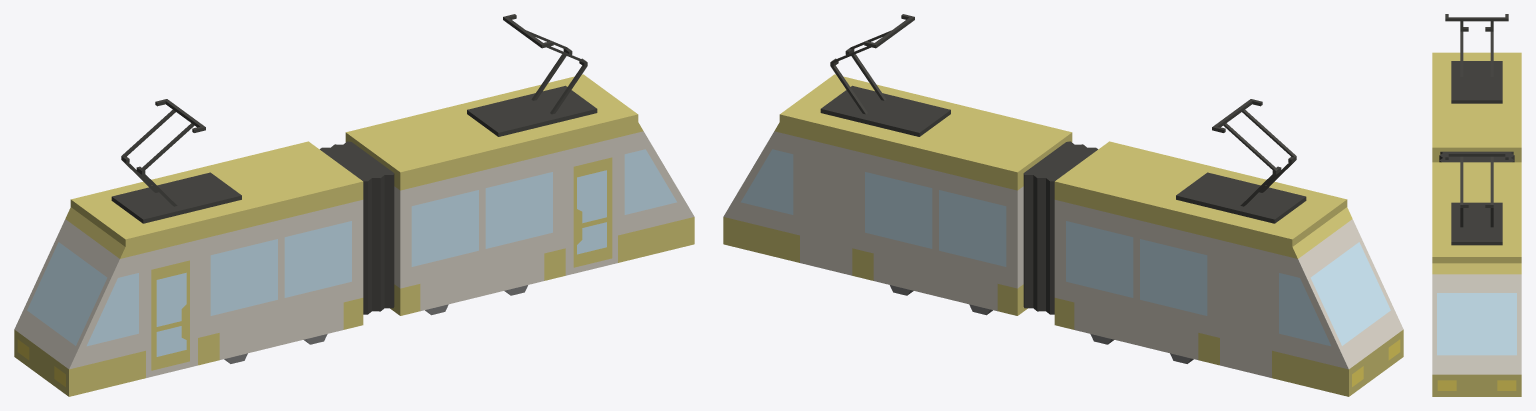
Rendered from Tram_4.fbx.
3 views of the same model, side by side, from view 1: azimuth 30°, elevation 25°; view 2: azimuth 150°, elevation 25°; view 3: azimuth 270°, elevation 25° (orthographic). The views are drawn at different scales.
Parts seen in each view (by area): view 1: Tram_4; view 2: Tram_4; view 3: Tram_4.
Boxes of the visible parts, x1=… form: Tram_4: x1=14, y1=14, x2=694, y2=396; Tram_4: x1=723, y1=14, x2=1403, y2=396; Tram_4: x1=1432, y1=14, x2=1521, y2=396.
Bounding box in the file's own units: 19.26 × 7.04 × 2.92.
1 material, 1 textured.
